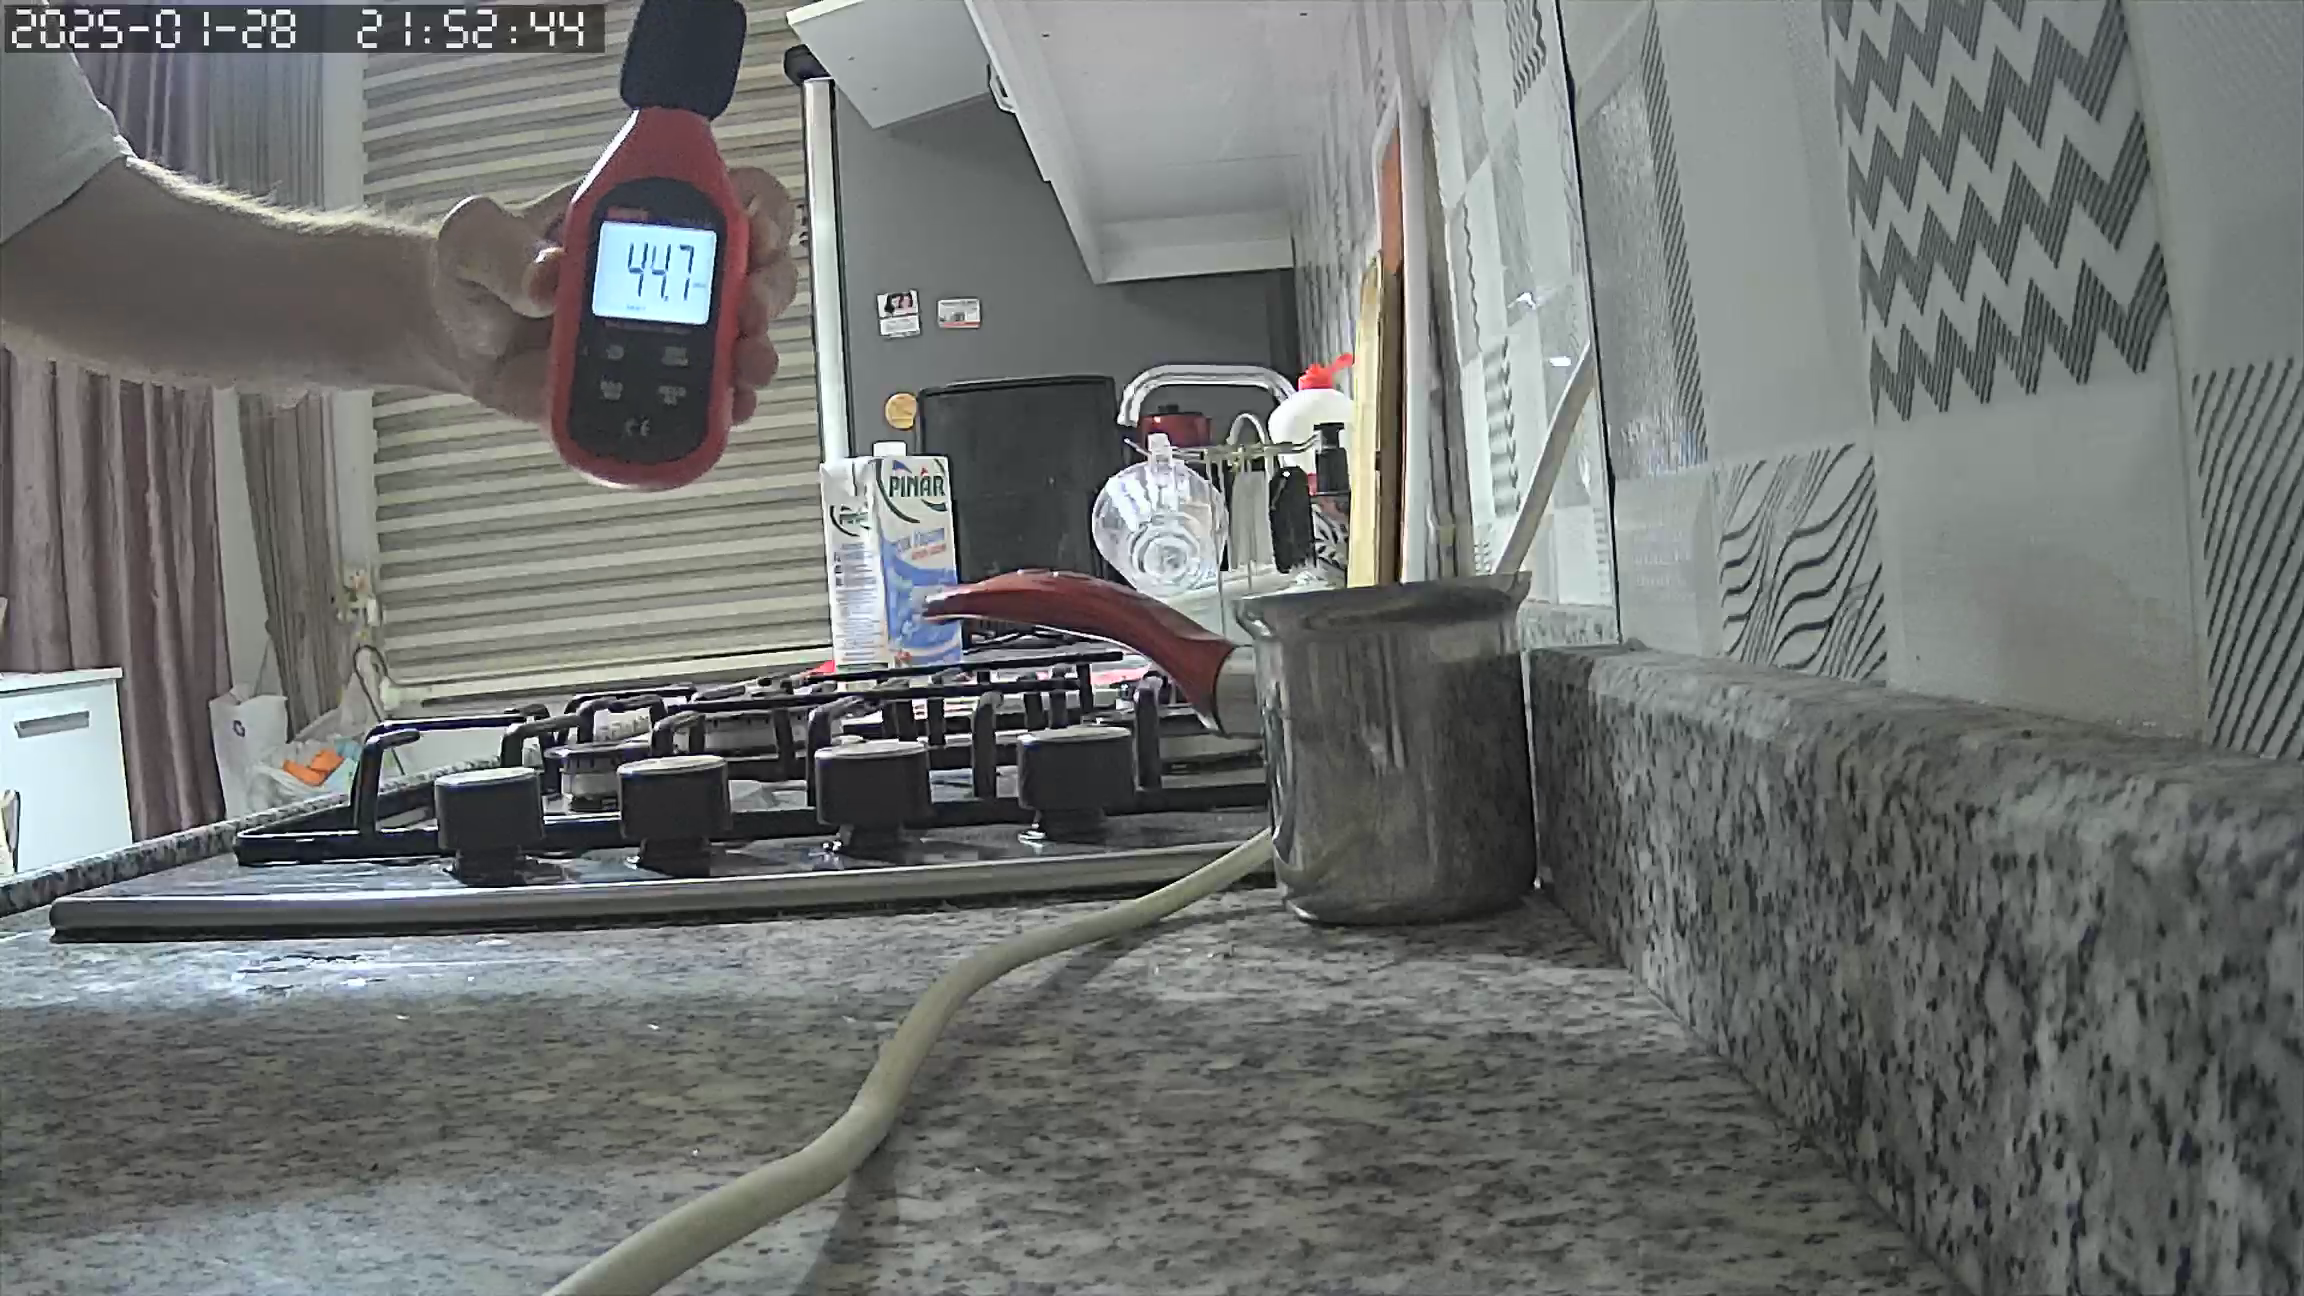screen: (589, 222, 718, 328)
